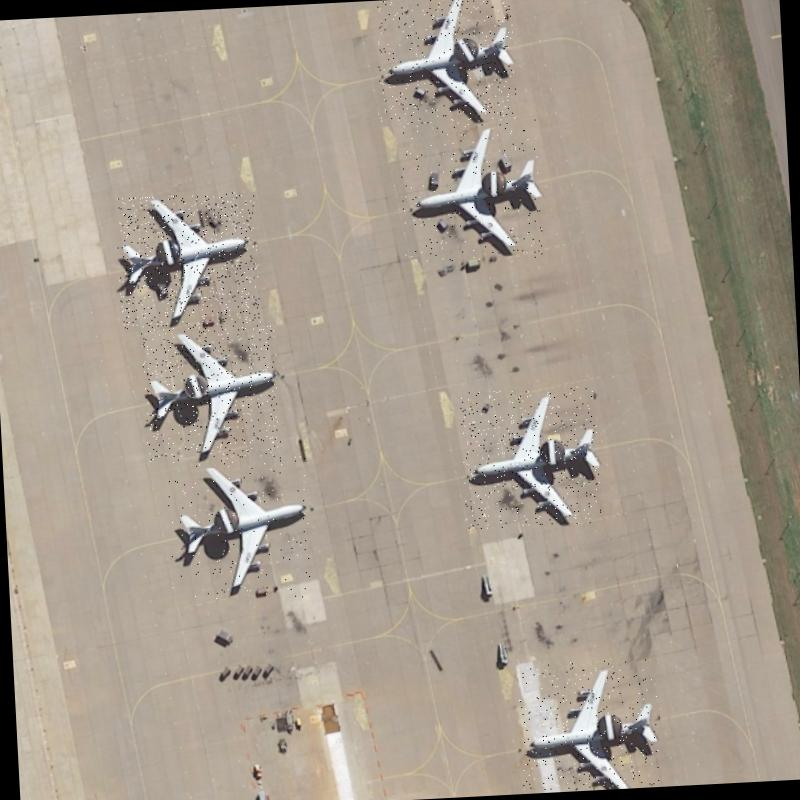A7: (166, 454, 312, 604), (398, 118, 544, 264), (460, 386, 602, 530), (115, 192, 261, 330), (141, 322, 282, 464), (517, 658, 662, 793), (375, 0, 517, 127)
